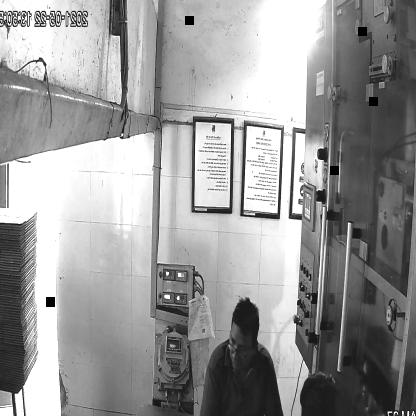goggles: (225, 336, 253, 365)
